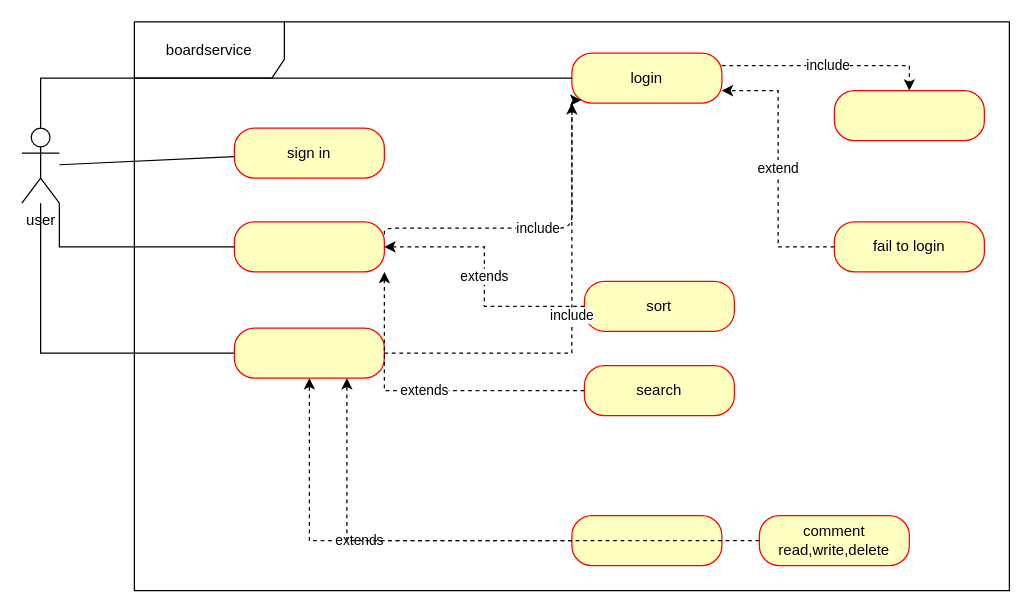
Image size: 1031x613. Some labels were removed from this diagram. Here are the shapes that lost their labels. From the top down, the centre of each, then its label:
the point at 908,115: autorization
the point at 308,246: read board
the point at 308,352: read writing
the point at 646,540: read,write,delete
